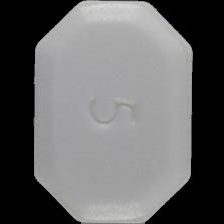59762-1530: (0, 0, 224, 224)
